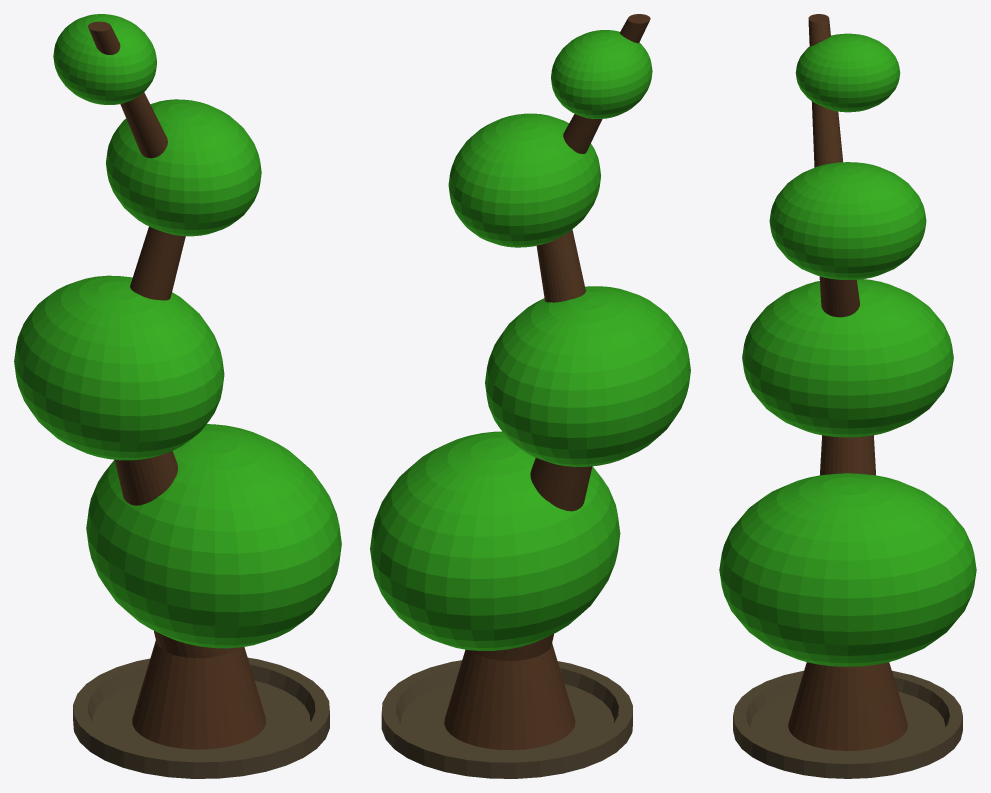
Rendered from arbol 1.fbx.
The picture shows the model from 3 angles, left to right: view 1: azimuth 30°, elevation 25°; view 2: azimuth 150°, elevation 25°; view 3: azimuth 270°, elevation 25°; orthographic projection. The views are drawn at different scales.
Parts seen in each view (by area): view 1: Cylinder.007; view 2: Cylinder.007; view 3: Cylinder.007.
Boxes of the visible parts, x1,y1,x2,y2 form: Cylinder.007: [14, 14, 341, 778]; Cylinder.007: [370, 14, 690, 778]; Cylinder.007: [719, 14, 976, 778].
Size of the model in its own units: 204 by 501 by 177.
